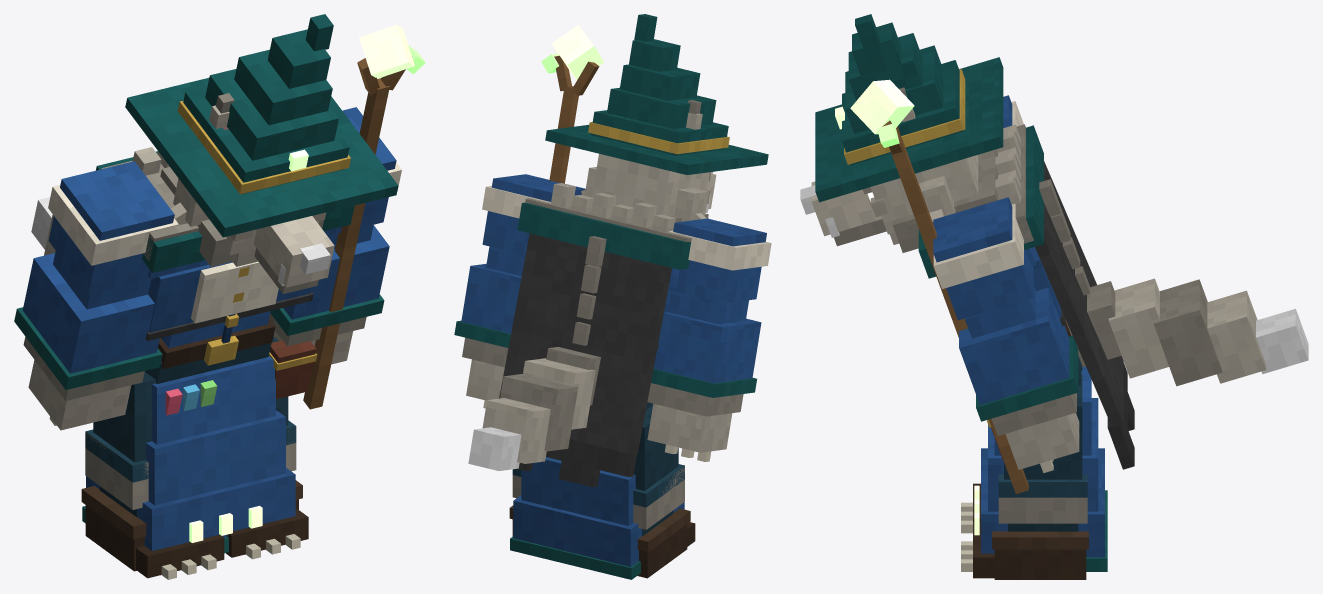
File: lycan_mage_v2.glb
3 renders of one model, left to right at view 1: azimuth 30°, elevation 25°; view 2: azimuth 150°, elevation 25°; view 3: azimuth 270°, elevation 25°, orthographic. The views are drawn at different scales.
Visible parts, largest first — view 1: Head, ArmR, Root, Torso, LegR, ArmL, HandL, LegL; view 2: Torso, ArmR, Head, Root, ArmL, LegR, HandL; view 3: Torso, Head, ArmL, LegL, Root, HandL.
Boxes of the visible parts, bbox=[...] form: Head: bbox=[125, 14, 398, 293]; ArmR: bbox=[14, 161, 180, 430]; Root: bbox=[82, 356, 300, 579]; Torso: bbox=[31, 147, 354, 415]; LegR: bbox=[81, 372, 224, 578]; ArmL: bbox=[269, 107, 401, 364]; HandL: bbox=[303, 24, 425, 409]; LegL: bbox=[225, 336, 308, 557]; Torso: bbox=[468, 183, 691, 487]; ArmR: bbox=[647, 218, 771, 461]; Head: bbox=[545, 14, 768, 222]; Root: bbox=[510, 457, 684, 579]; ArmL: bbox=[454, 174, 585, 408]; LegR: bbox=[633, 405, 695, 578]; HandL: bbox=[541, 25, 603, 183]; Torso: bbox=[918, 124, 1308, 469]; Head: bbox=[800, 14, 1003, 252]; ArmL: bbox=[933, 197, 1079, 473]; LegL: bbox=[973, 374, 1088, 579]; Root: bbox=[961, 366, 1107, 571]; HandL: bbox=[850, 79, 1028, 493].
Bounding box in the file's own units: 1.27 × 2.22 × 1.89.
Materials: 41 (41 with a texture image).
